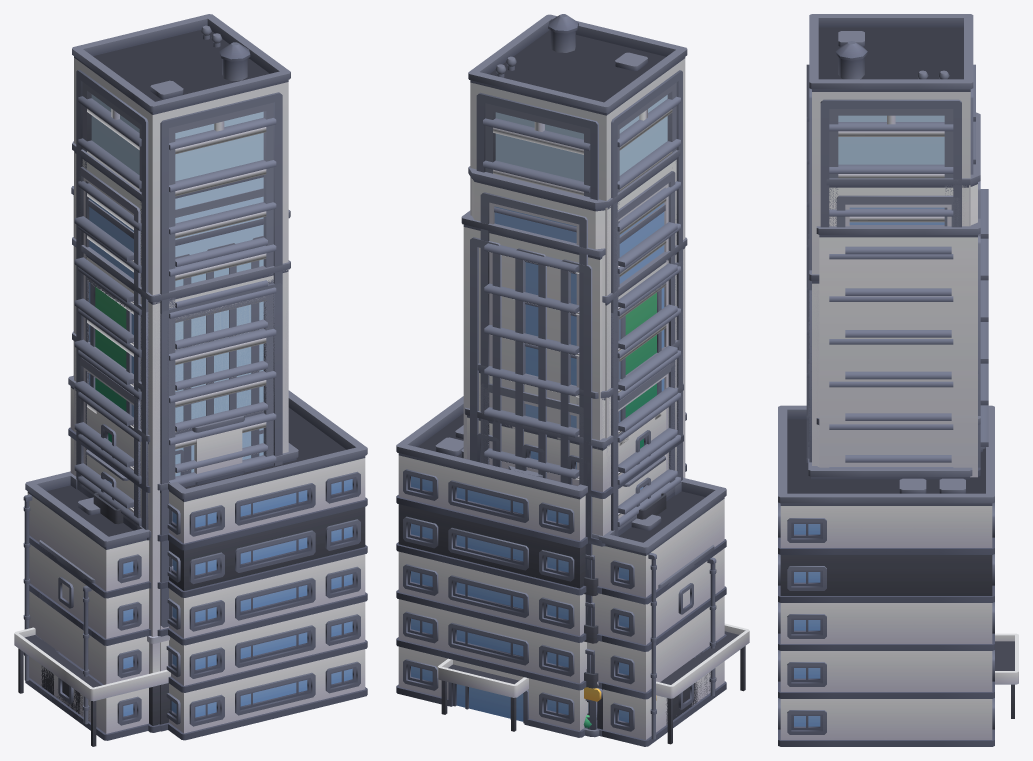
File: city.glb
3 views of the same model, side by side, from view 1: azimuth 30°, elevation 25°; view 2: azimuth 150°, elevation 25°; view 3: azimuth 270°, elevation 25° (orthographic).
Visible parts, largest first — view 1: building-skyscraper-d, building-n, building-skyscraper-c, building-j, building-skyscraper-b, building-skyscraper-e, building-k, building-skyscraper-a, building-m, building-l; view 2: building-n, building-skyscraper-d, building-skyscraper-b, building-skyscraper-e, building-j, building-m, building-skyscraper-a, building-skyscraper-c, building-k, building-i; view 3: building-n, building-skyscraper-d, building-skyscraper-e, building-skyscraper-b, building-skyscraper-c, building-skyscraper-a, building-l.
Part boxes in pixels (x1,y1,x2,y2): building-skyscraper-d: [72, 14, 290, 635]; building-n: [14, 390, 367, 746]; building-skyscraper-c: [72, 237, 290, 732]; building-j: [23, 471, 158, 740]; building-skyscraper-b: [72, 141, 267, 526]; building-skyscraper-e: [71, 186, 290, 480]; building-k: [39, 540, 95, 730]; building-skyscraper-a: [72, 331, 267, 526]; building-m: [68, 375, 263, 629]; building-l: [93, 443, 298, 731]; building-n: [396, 396, 749, 744]; building-skyscraper-d: [468, 14, 687, 535]; building-skyscraper-b: [468, 150, 680, 535]; building-skyscraper-e: [461, 204, 665, 729]; building-j: [583, 478, 726, 746]; building-m: [464, 383, 683, 736]; building-skyscraper-a: [477, 339, 680, 729]; building-skyscraper-c: [525, 237, 687, 536]; building-k: [656, 545, 716, 730]; building-i: [584, 477, 684, 728]; building-n: [778, 405, 1018, 746]; building-skyscraper-d: [806, 14, 975, 468]; building-skyscraper-e: [816, 218, 980, 477]; building-skyscraper-b: [808, 112, 988, 457]; building-skyscraper-c: [806, 270, 953, 468]; building-skyscraper-a: [808, 363, 988, 462]; building-l: [808, 447, 985, 479].
Size of the model in its own units: 2.32 by 5.47 by 1.82.
1 material, 1 textured.
